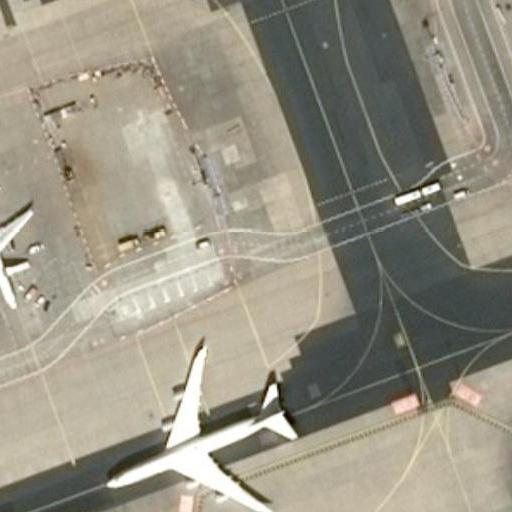Aircraft: (100, 338, 300, 509), (98, 342, 298, 508), (0, 170, 38, 311), (0, 167, 37, 307)
